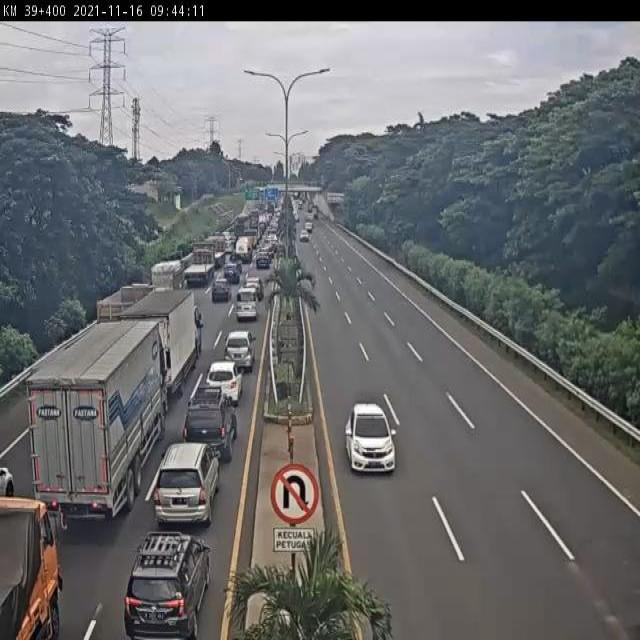car: (123, 518, 210, 640), (156, 434, 224, 542), (339, 392, 403, 481), (184, 380, 241, 464), (202, 358, 249, 414), (222, 327, 261, 373), (230, 285, 263, 323), (242, 272, 269, 305), (210, 276, 230, 307)
truck-l-: (26, 321, 167, 524)
truck-m-: (123, 287, 200, 393), (150, 260, 186, 303), (183, 246, 218, 290)
